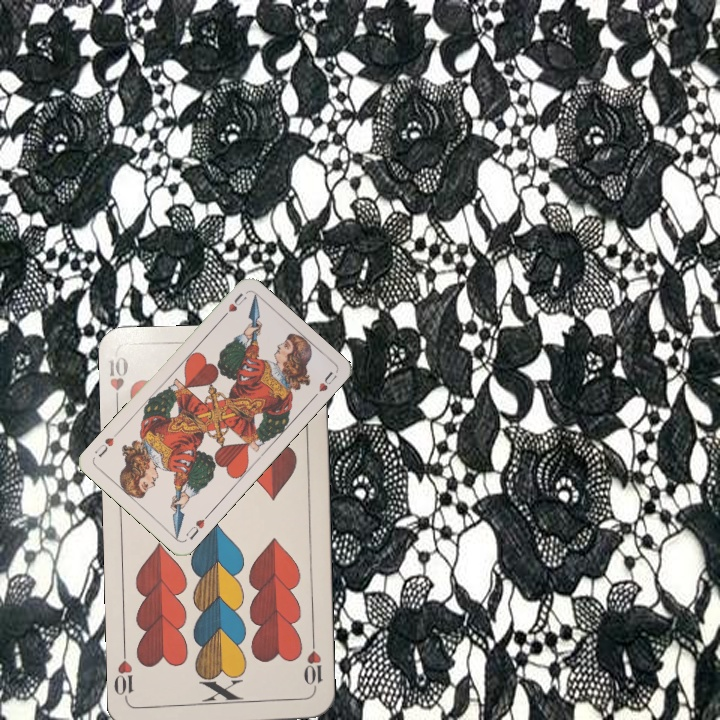H10: (299, 637, 326, 696), (105, 353, 132, 411)
HU: (217, 289, 249, 322), (181, 509, 212, 543)
